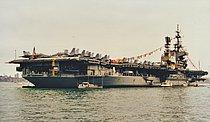MIL_Ship: (8, 24, 209, 86)
